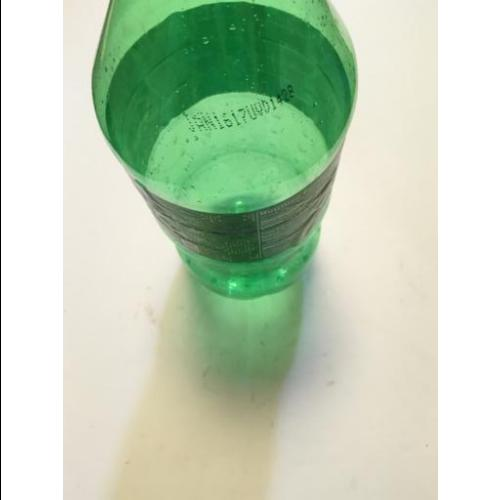plastic: (92, 0, 358, 302)
